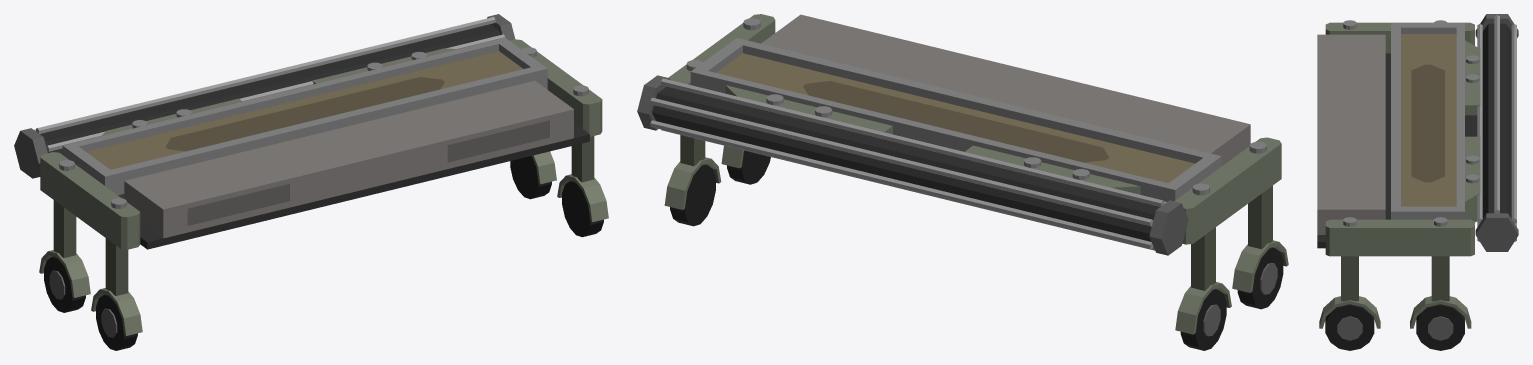
Rendered from vfef_autofarmer_gantry.obj.
The picture shows the model from 3 angles, left to right: view 1: azimuth 30°, elevation 25°; view 2: azimuth 150°, elevation 25°; view 3: azimuth 270°, elevation 25°; orthographic projection. The views are drawn at different scales.
Parts seen in each view (by area): view 1: vfef_autofarmer_gantry_23, vfef_autofarmer_gantry_26, vfef_autofarmer_gantry_36, vfef_autofarmer_gantry_27, vfef_autofarmer_gantry_28, vfef_autofarmer_gantry_8, vfef_autofarmer_gantry_22, vfef_autofarmer_gantry_24, vfef_autofarmer_gantry_38, vfef_autofarmer_gantry_19, vfef_autofarmer_gantry_15, vfef_autofarmer_gantry_43 (+13 smaller); view 2: vfef_autofarmer_gantry_23, vfef_autofarmer_gantry_36, vfef_autofarmer_gantry_26, vfef_autofarmer_gantry_27, vfef_autofarmer_gantry_28, vfef_autofarmer_gantry_8, vfef_autofarmer_gantry_37, vfef_autofarmer_gantry_38, vfef_autofarmer_gantry_42, vfef_autofarmer_gantry_11, vfef_autofarmer_gantry_43, vfef_autofarmer_gantry_19 (+13 smaller); view 3: vfef_autofarmer_gantry_23, vfef_autofarmer_gantry_27, vfef_autofarmer_gantry_19, vfef_autofarmer_gantry_26, vfef_autofarmer_gantry_36, vfef_autofarmer_gantry_28, vfef_autofarmer_gantry_15, vfef_autofarmer_gantry_11, vfef_autofarmer_gantry_44, vfef_autofarmer_gantry_38, vfef_autofarmer_gantry_37, vfef_autofarmer_gantry_8 (+12 smaller).
Part boxes in pixels (<box>): vfef_autofarmer_gantry_23: <box>124,80,573,238</box>; vfef_autofarmer_gantry_26: <box>62,37,547,194</box>; vfef_autofarmer_gantry_36: <box>40,24,499,154</box>; vfef_autofarmer_gantry_27: <box>86,51,522,169</box>; vfef_autofarmer_gantry_28: <box>165,77,444,151</box>; vfef_autofarmer_gantry_8: <box>40,152,140,249</box>; vfef_autofarmer_gantry_22: <box>140,123,589,249</box>; vfef_autofarmer_gantry_24: <box>187,120,549,225</box>; vfef_autofarmer_gantry_38: <box>36,17,495,133</box>; vfef_autofarmer_gantry_19: <box>510,39,602,136</box>; vfef_autofarmer_gantry_15: <box>562,180,603,237</box>; vfef_autofarmer_gantry_43: <box>14,128,47,178</box>; vfef_autofarmer_gantry_23: <box>761,14,1250,165</box>; vfef_autofarmer_gantry_36: <box>652,86,1159,241</box>; vfef_autofarmer_gantry_26: <box>690,38,1221,201</box>; vfef_autofarmer_gantry_27: <box>716,53,1194,183</box>; vfef_autofarmer_gantry_28: <box>803,81,1109,162</box>; vfef_autofarmer_gantry_8: <box>1174,137,1281,244</box>; vfef_autofarmer_gantry_37: <box>650,97,1153,226</box>; vfef_autofarmer_gantry_38: <box>661,78,1164,206</box>; vfef_autofarmer_gantry_42: <box>650,120,1153,248</box>; vfef_autofarmer_gantry_11: <box>670,164,715,226</box>; vfef_autofarmer_gantry_43: <box>1149,200,1188,255</box>; vfef_autofarmer_gantry_19: <box>668,14,775,84</box>; vfef_autofarmer_gantry_23: <box>1317,34,1385,234</box>; vfef_autofarmer_gantry_27: <box>1401,34,1456,206</box>; vfef_autofarmer_gantry_19: <box>1325,219,1474,256</box>; vfef_autofarmer_gantry_26: <box>1391,23,1464,219</box>; vfef_autofarmer_gantry_36: <box>1482,23,1511,218</box>; vfef_autofarmer_gantry_28: <box>1411,64,1444,182</box>; vfef_autofarmer_gantry_15: <box>1325,304,1374,350</box>; vfef_autofarmer_gantry_11: <box>1416,304,1464,350</box>; vfef_autofarmer_gantry_44: <box>1475,213,1518,251</box>; vfef_autofarmer_gantry_38: <box>1494,15,1499,213</box>; vfef_autofarmer_gantry_37: <box>1511,24,1516,223</box>; vfef_autofarmer_gantry_8: <box>1325,22,1474,53</box>.
Bounding box in the file's own units: 6.98 × 2.16 × 2.89.
